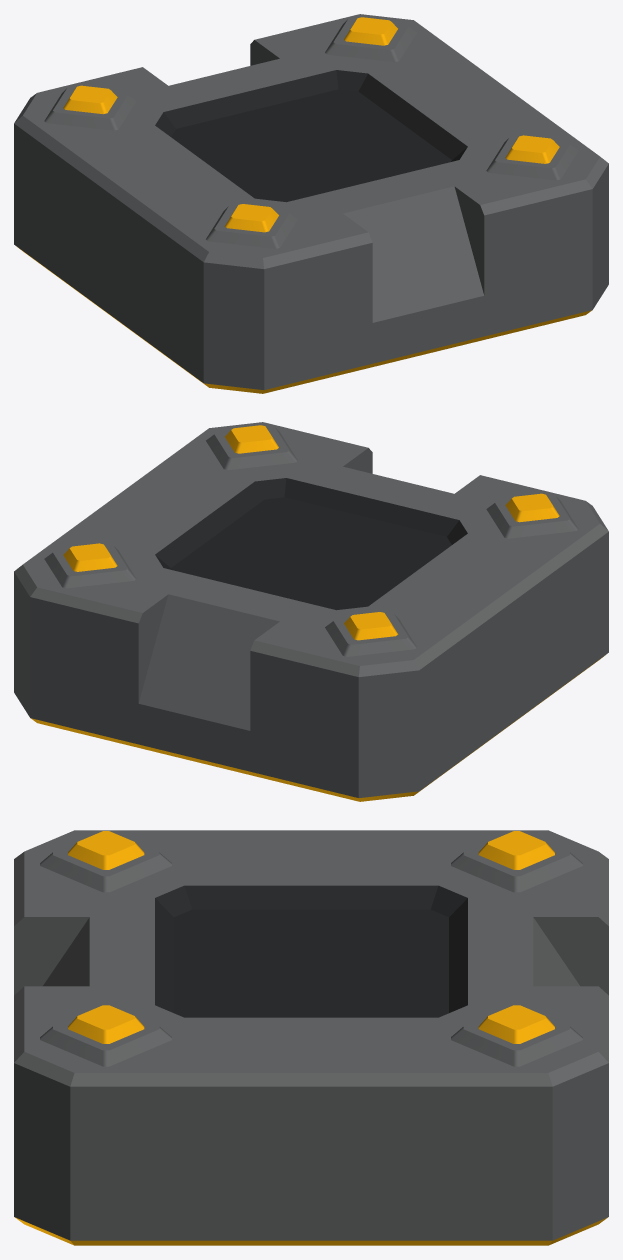
File: Crate_002_002.fbx
3 renders of one model, top to bottom at view 1: azimuth 30°, elevation 25°; view 2: azimuth 150°, elevation 25°; view 3: azimuth 270°, elevation 25°, orthographic. The views are drawn at different scales.
Parts seen in each view (by area): view 1: Crate_002_002; view 2: Crate_002_002; view 3: Crate_002_002.
Part boxes in pixels (x1=…): Crate_002_002: x1=14, y1=14, x2=608, y2=393; Crate_002_002: x1=14, y1=422, x2=608, y2=801; Crate_002_002: x1=14, y1=830, x2=608, y2=1245.
Bounding box in the file's own units: 39.99 × 39.99 × 14.39.
